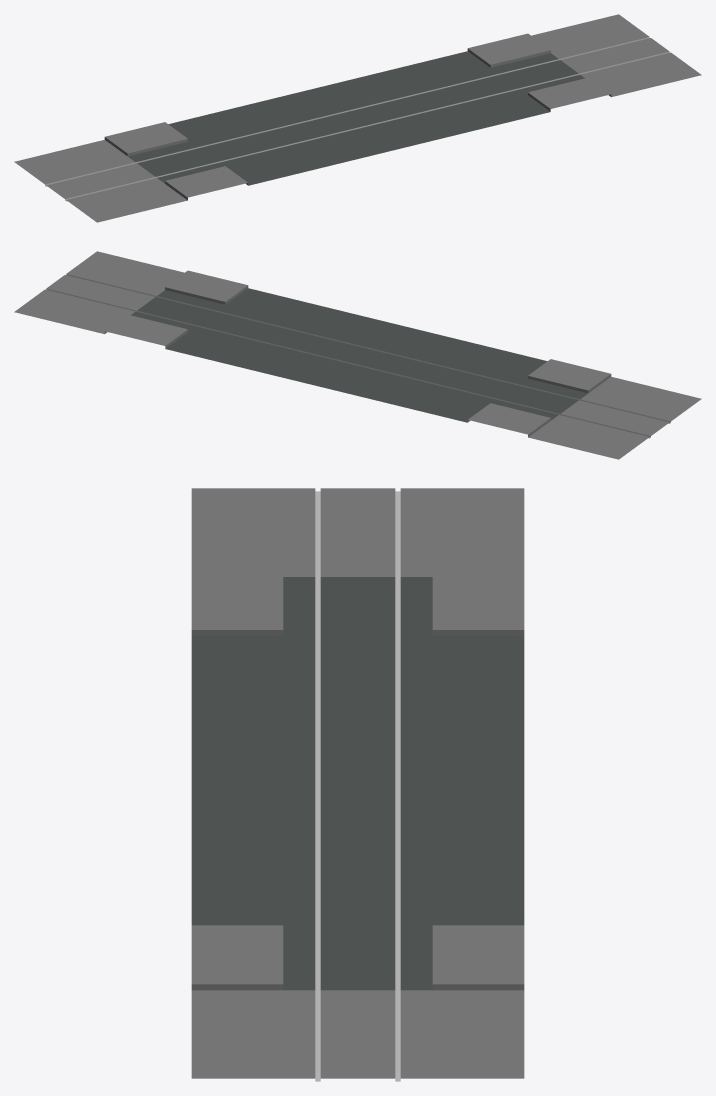
File: Road_Railroad_2.fbx
3 renders of one model, top to bottom at view 1: azimuth 30°, elevation 25°; view 2: azimuth 150°, elevation 25°; view 3: azimuth 270°, elevation 25°, orthographic. The views are drawn at different scales.
Visible parts, largest first — view 1: Road_Railroad_2; view 2: Road_Railroad_2; view 3: Road_Railroad_2.
Part boxes in pixels (x1,y1,x2,y2): Road_Railroad_2: (14,14,701,222); Road_Railroad_2: (14,251,701,459); Road_Railroad_2: (191,488,524,1081).
Size of the model in its own units: 42 by 0.2895 by 10.
Materials: 1 (1 with a texture image).
